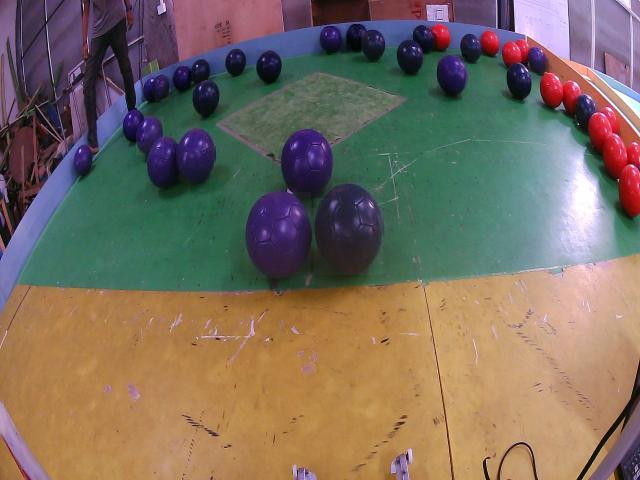jambhalya: (245, 192, 311, 278), (282, 129, 332, 198), (177, 129, 215, 182), (147, 137, 179, 188), (437, 55, 467, 97), (136, 116, 164, 155), (576, 93, 597, 131), (123, 108, 144, 142), (320, 27, 341, 54), (74, 145, 92, 175), (528, 46, 547, 74), (173, 66, 191, 91), (153, 75, 170, 101), (143, 79, 155, 103)
kaalyya: (315, 184, 383, 275), (193, 80, 220, 116), (397, 40, 424, 75), (506, 64, 531, 100), (256, 50, 281, 83), (361, 30, 385, 61), (225, 48, 246, 77), (460, 34, 481, 63), (414, 25, 434, 53), (346, 25, 366, 51), (191, 59, 210, 84)
